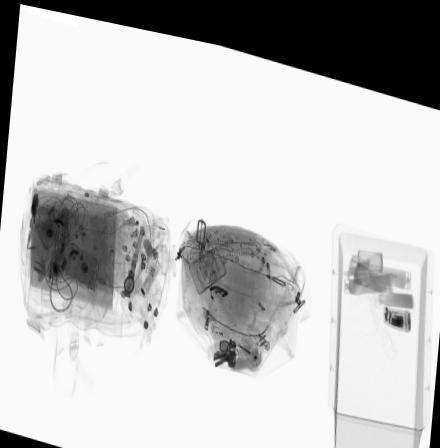Lighter: (245, 311, 270, 340), (209, 313, 240, 330)
